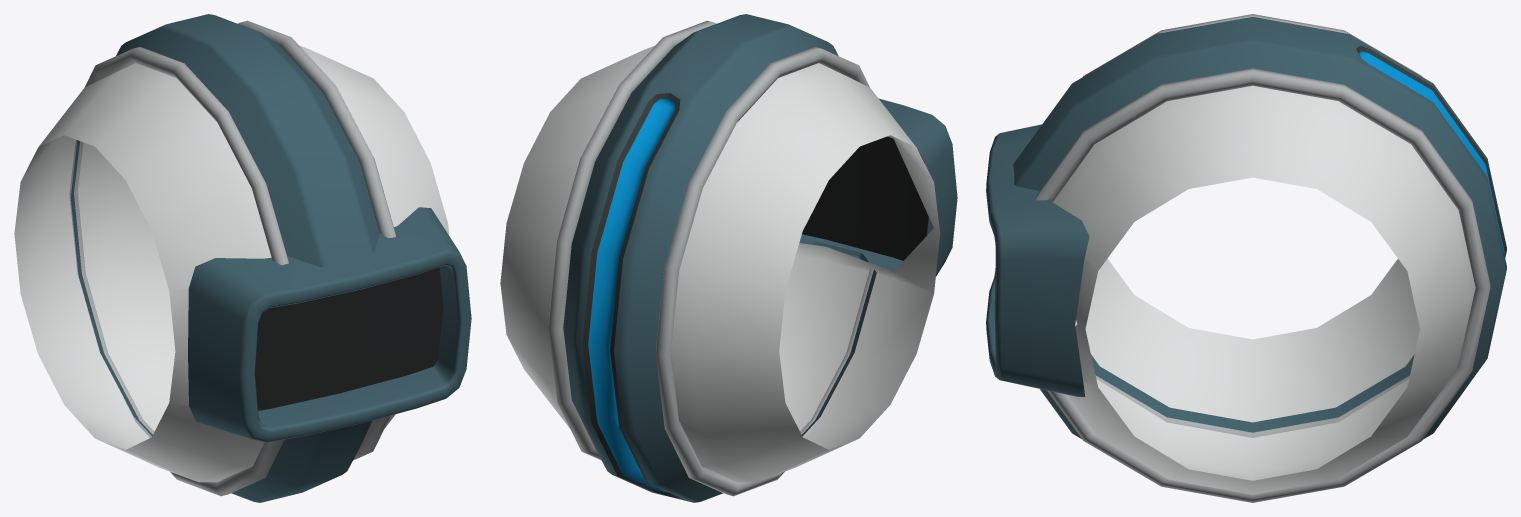
The model's file is Drone_002.fbx.
3 views of the same model, side by side, from view 1: azimuth 30°, elevation 25°; view 2: azimuth 150°, elevation 25°; view 3: azimuth 270°, elevation 25° (orthographic). The views are drawn at different scales.
Visible parts, largest first — view 1: Drone_002; view 2: Drone_002; view 3: Drone_002.
Boxes of the visible parts, left/top/right/bottom form: Drone_002: left=14, top=14, right=471, bottom=502; Drone_002: left=500, top=14, right=957, bottom=502; Drone_002: left=986, top=14, right=1506, bottom=502.
Bounding box in the file's own units: 22.39 × 34.85 × 34.01.
